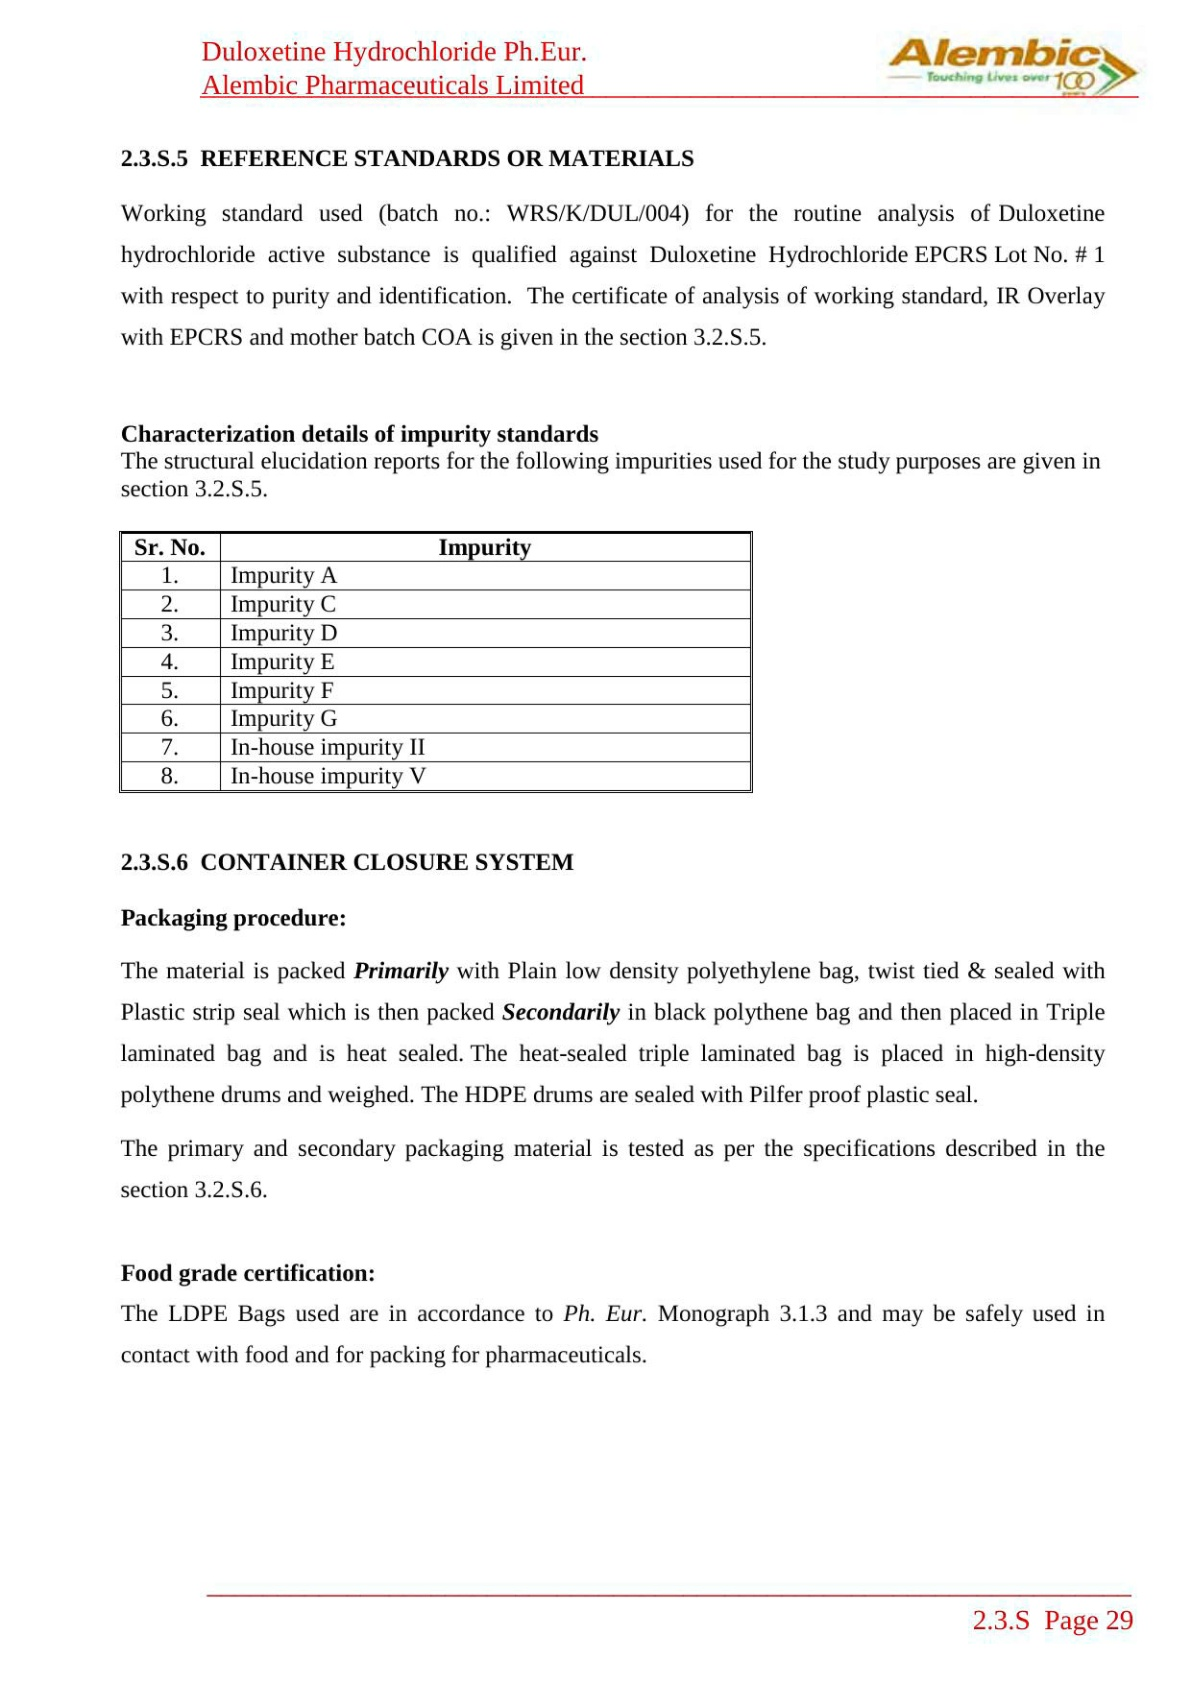full_lined: (119, 531, 753, 794)
